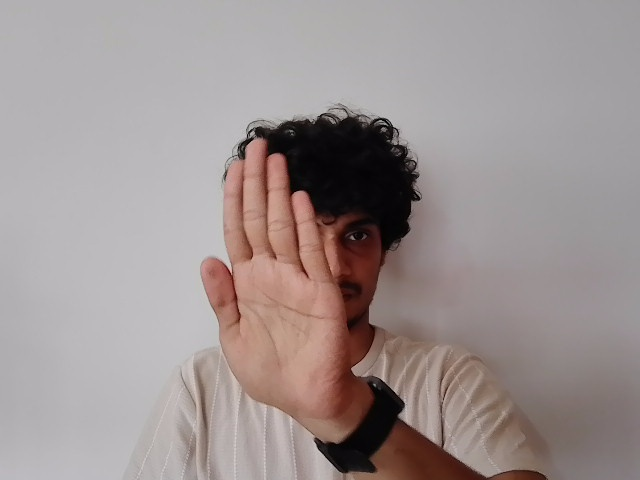hello: (197, 137, 363, 401)
